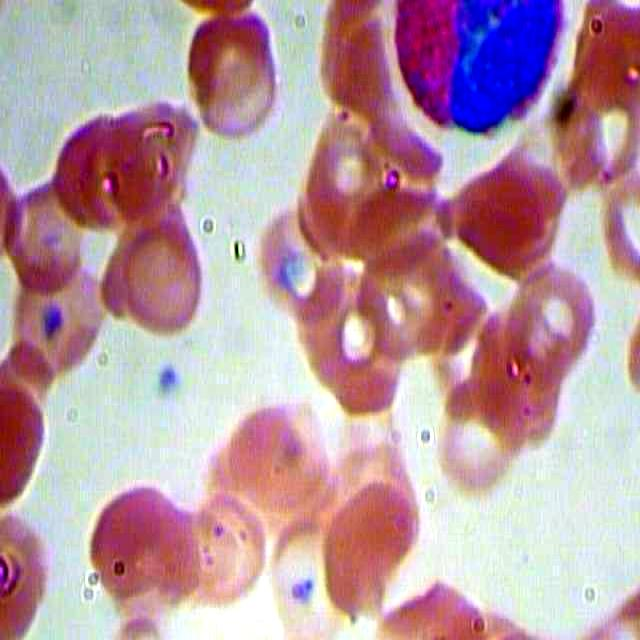Platelets: (146, 359, 186, 405), (282, 567, 322, 613)
RBC: (436, 125, 574, 280), (295, 269, 422, 422), (202, 374, 329, 526), (294, 104, 407, 259), (317, 468, 426, 628), (2, 228, 113, 383), (424, 360, 535, 515), (114, 205, 223, 354), (178, 2, 287, 150), (102, 80, 211, 228), (42, 94, 151, 242), (497, 261, 608, 392), (1, 149, 94, 303), (86, 477, 195, 608), (173, 483, 282, 613), (253, 201, 350, 327)
WBC: (387, 1, 564, 136)
